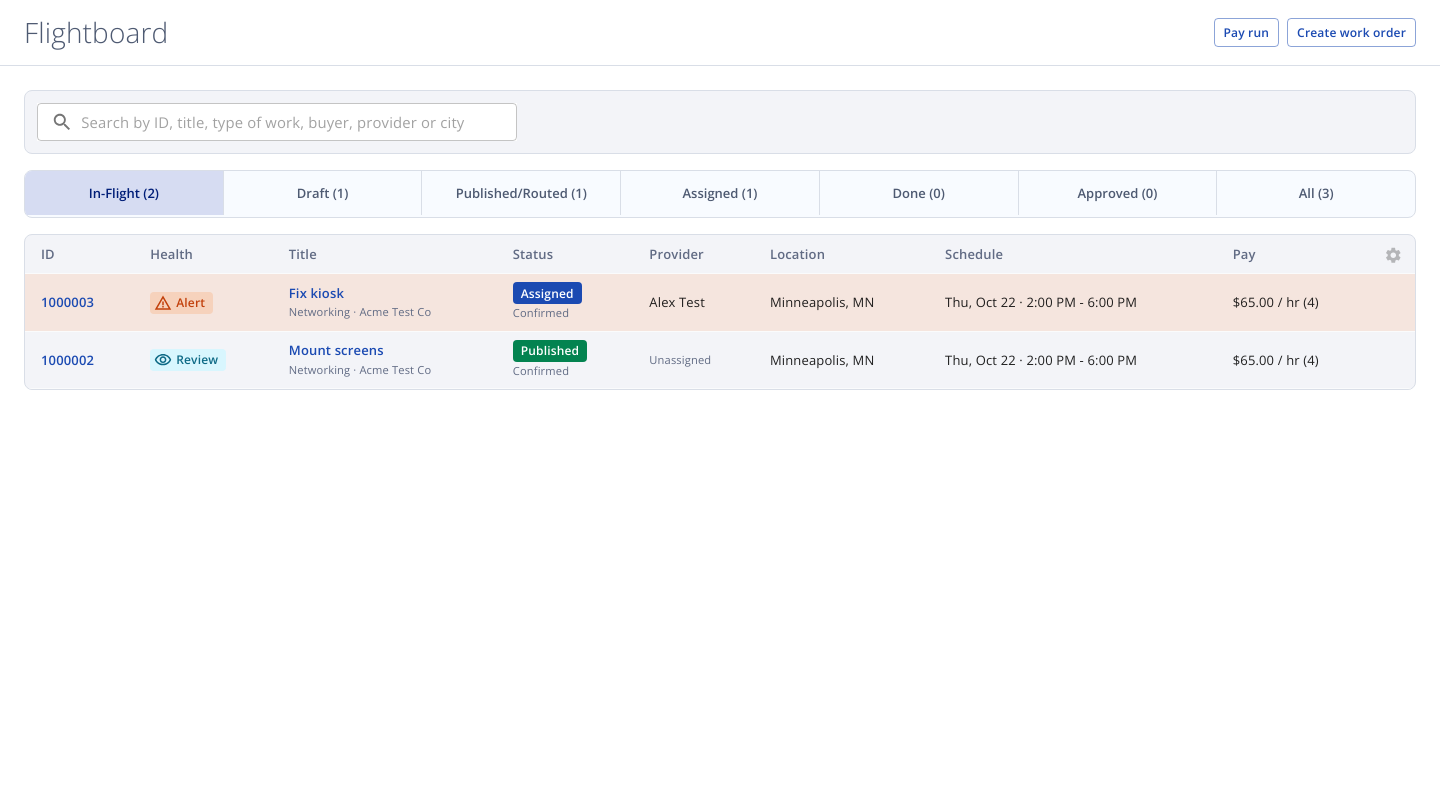
Scenario: FlightboardPage › shows nearby providers only for an unassigned work order
Click the text "Mount screens": click(336, 350) x1=289 y1=341 x2=384 y2=359
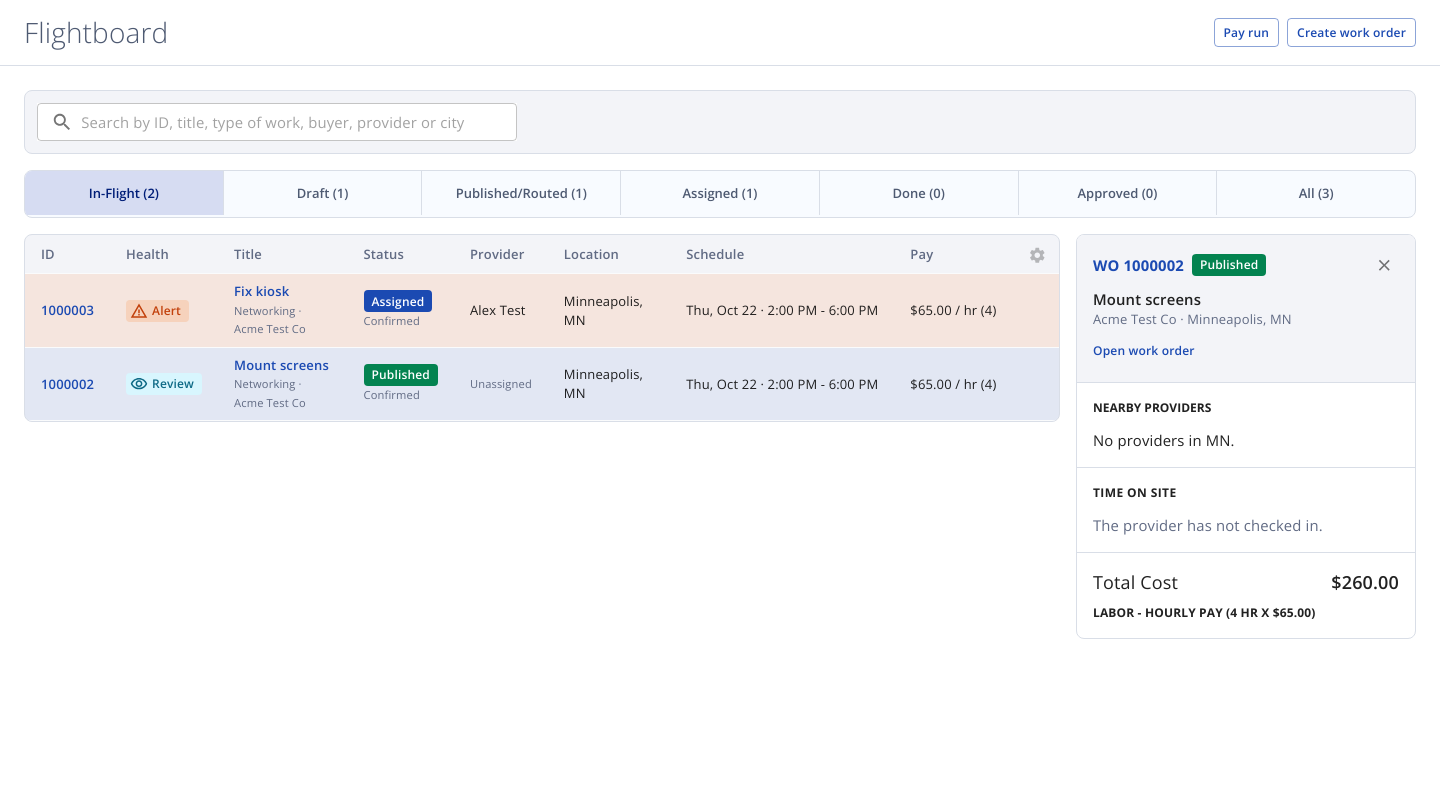
Result: the element "Nearby providers" is shown at x1=1093 y1=399 x2=1235 y2=450
Click the text "Fix kiosk": click(262, 291) x1=234 y1=282 x2=289 y2=300
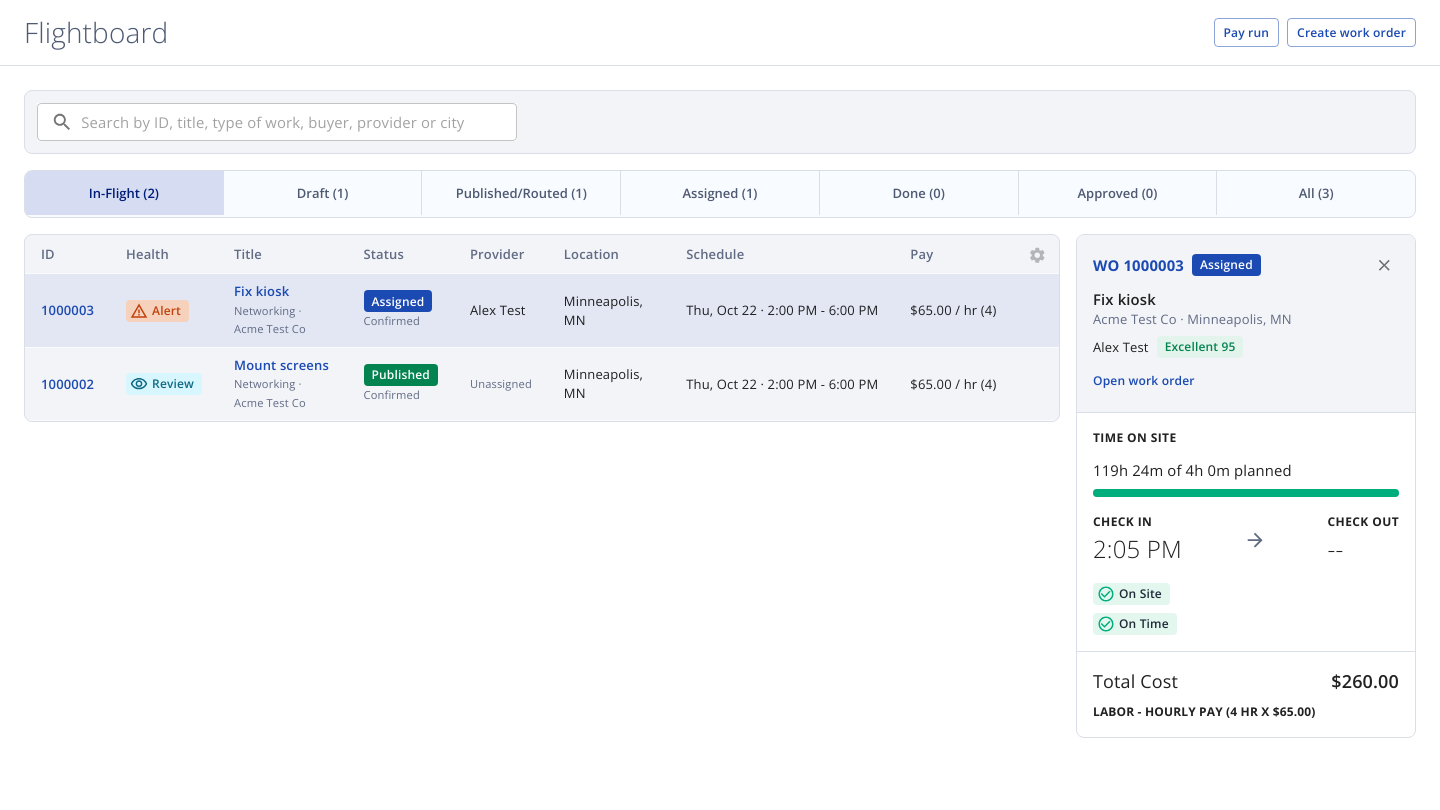
Result: the text "Nearby providers" is gone
